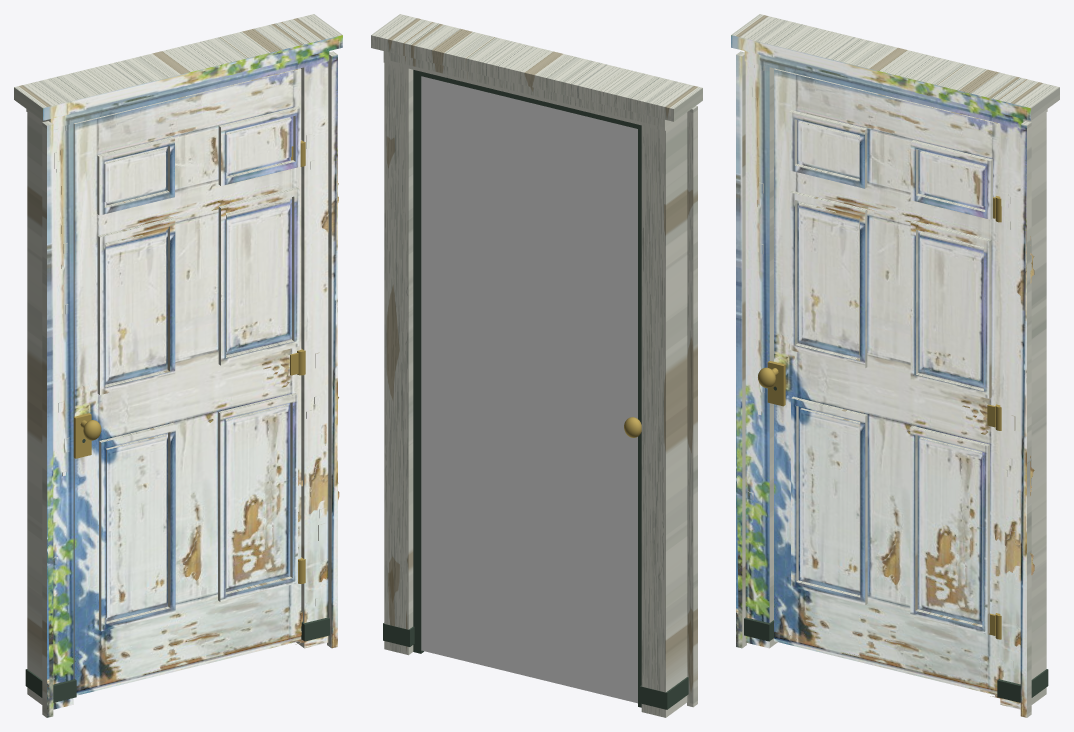
File: SuzumeDoor.glb
The picture shows the model from 3 angles, left to right: view 1: azimuth 30°, elevation 25°; view 2: azimuth 150°, elevation 25°; view 3: azimuth 330°, elevation 25°; orthographic projection.
Visible parts, largest first — view 1: 可开合门扇与铰链表面.003, 完整六格白门与门框表面.002, 完整六格白门与门框表面.003, 完整六格白门与门框表面.001, 可开合门扇与铰链表面.005, 可开合门扇与铰链表面.002, 可开合门扇与铰链表面, 完整六格白门与门框表面; view 2: 空间门洞传送门开口.001, 完整六格白门与门框表面.001, 完整六格白门与门框表面.003, 完整六格白门与门框表面; view 3: 可开合门扇与铰链表面.003, 完整六格白门与门框表面.002, 完整六格白门与门框表面.003, 完整六格白门与门框表面.001, 可开合门扇与铰链表面.005, 可开合门扇与铰链表面.002, 可开合门扇与铰链表面, 完整六格白门与门框表面.
Part boxes in pixels (x1,y1,x2,y2): 可开合门扇与铰链表面.003: (74, 69, 302, 695); 完整六格白门与门框表面.002: (43, 35, 342, 717); 完整六格白门与门框表面.003: (14, 14, 342, 717); 完整六格白门与门框表面.001: (26, 67, 304, 704); 可开合门扇与铰链表面.005: (97, 106, 300, 630); 可开合门扇与铰链表面.002: (73, 68, 300, 678); 可开合门扇与铰链表面: (73, 140, 305, 583); 完整六格白门与门框表面: (25, 617, 329, 702); 空间门洞传送门开口.001: (421, 76, 637, 703); 完整六格白门与门框表面.001: (383, 51, 687, 717); 完整六格白门与门框表面.003: (371, 14, 702, 707); 完整六格白门与门框表面: (383, 70, 688, 709); 可开合门扇与铰链表面.003: (774, 69, 1000, 695); 完整六格白门与门框表面.002: (731, 35, 1034, 717); 完整六格白门与门框表面.003: (731, 14, 1059, 717); 完整六格白门与门框表面.001: (769, 67, 1047, 704); 可开合门扇与铰链表面.005: (789, 110, 992, 634); 可开合门扇与铰链表面.002: (774, 68, 999, 620); 可开合门扇与铰链表面: (758, 196, 1001, 639); 完整六格白门与门框表面: (744, 617, 1048, 702).
Size of the model in its own units: 1.87 by 3.63 by 0.4435.
Materials: 9 (4 with a texture image).
